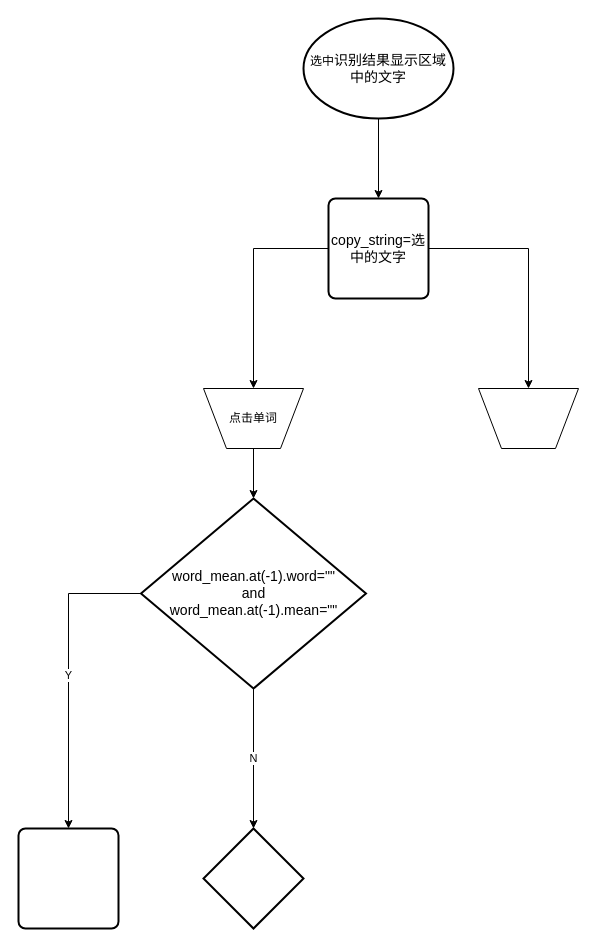
Image size: 596x946. Some labels were removed from this diagram. Here are the shapes that lost their labels. From the top down, the centre of each, then its label:
[528,418]: 点击释义
[68,878]: 在word_mean中新增一个对象，将 copy_string
